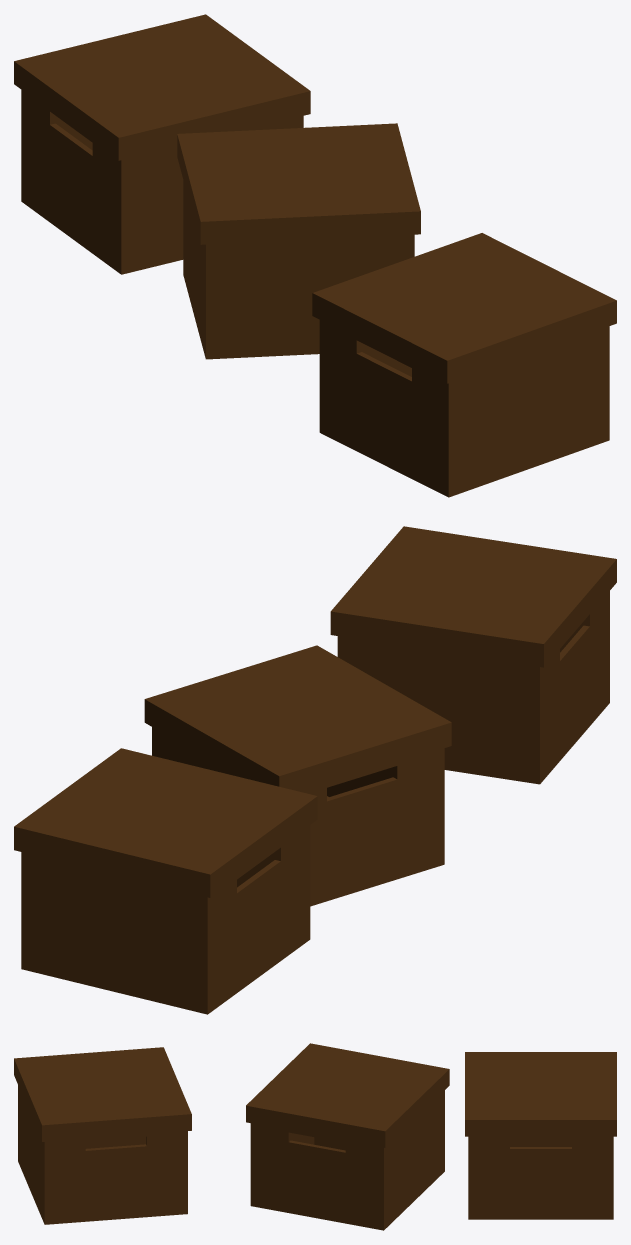
Rendered from Kardus 2.fbx.
The picture shows the model from 3 angles, top to bottom: view 1: azimuth 30°, elevation 25°; view 2: azimuth 150°, elevation 25°; view 3: azimuth 270°, elevation 25°; orthographic projection. The views are drawn at different scales.
Visible parts, largest first — view 1: Plane.019, Plane.017, Plane.018; view 2: Plane.017, Plane.019, Plane.018; view 3: Plane.018, Plane.019, Plane.017.
Boxes of the visible parts, <box> form: Plane.019: <box>312,233,616,497</box>; Plane.017: <box>14,14,310,274</box>; Plane.018: <box>177,123,420,359</box>; Plane.017: <box>14,748,317,1014</box>; Plane.019: <box>330,526,616,784</box>; Plane.018: <box>144,645,451,906</box>; Plane.018: <box>246,1043,449,1230</box>; Plane.019: <box>14,1047,191,1224</box>; Plane.017: <box>465,1052,616,1219</box>.
Size of the model in its own units: 445 by 239 by 1289.
